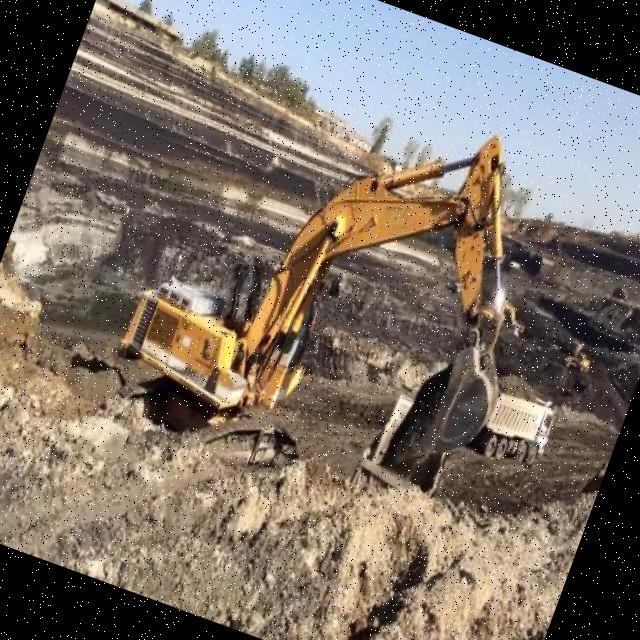Dump Truck: (474, 380, 560, 464)
Excavator: (88, 37, 604, 563)
